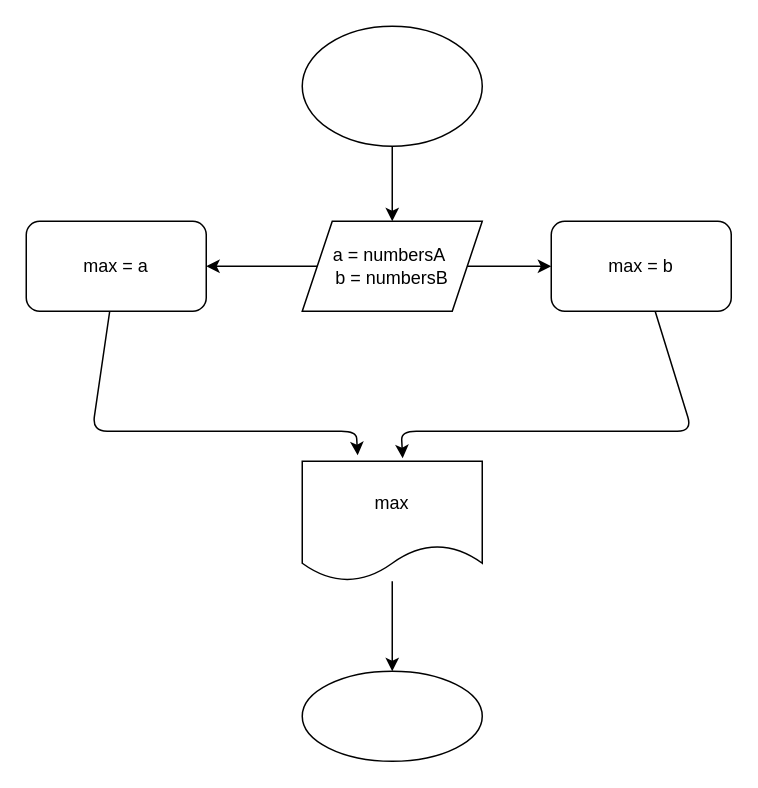
The diagram is 758 pixels wide and 788 high, and some of its shapes have lost their labels. Here are the shapes that lost their labels. From the top down, the box of each, then its label:
(301, 25, 482, 146): Start
(301, 670, 482, 761): end
